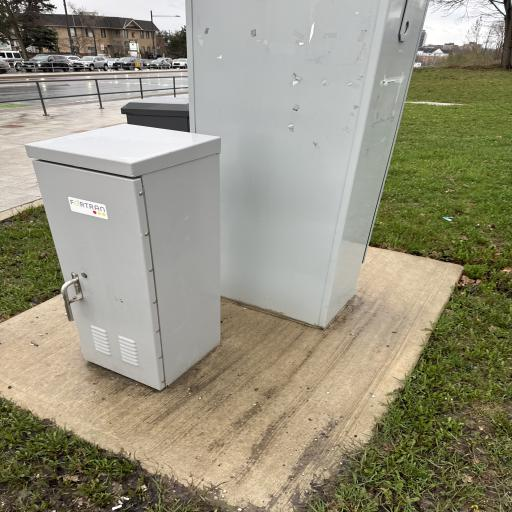Electrical Box: (181, 1, 434, 327), (26, 97, 224, 391)
